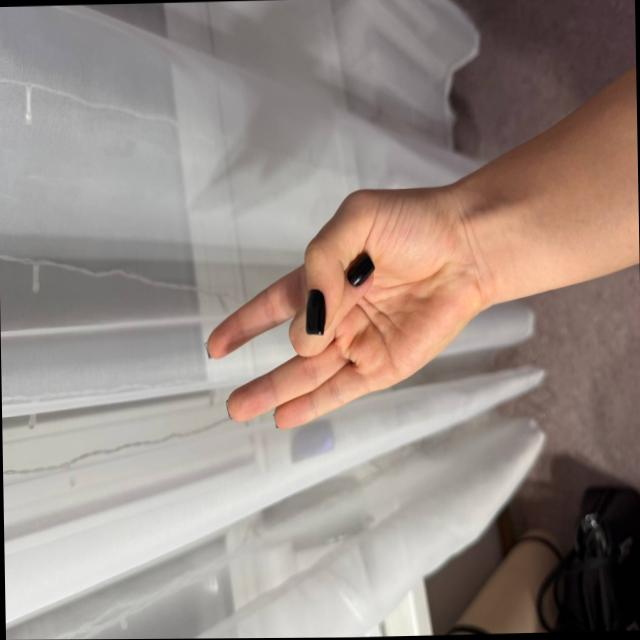r: (178, 171, 479, 463)
